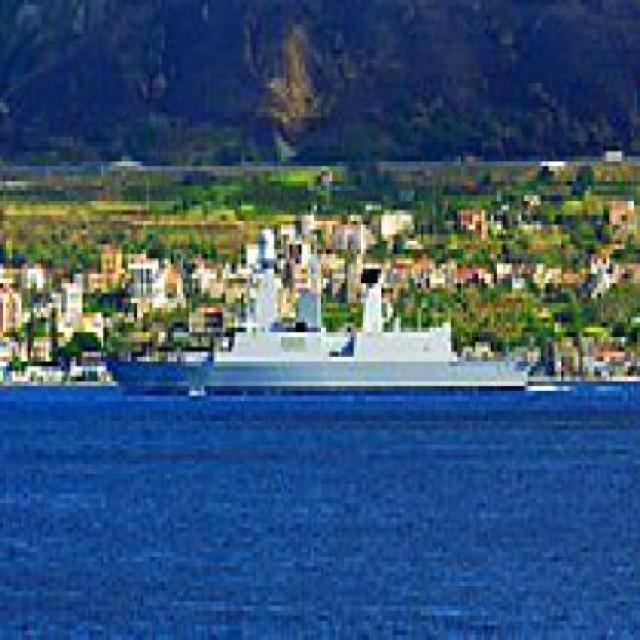warship2: (129, 201, 535, 416)
